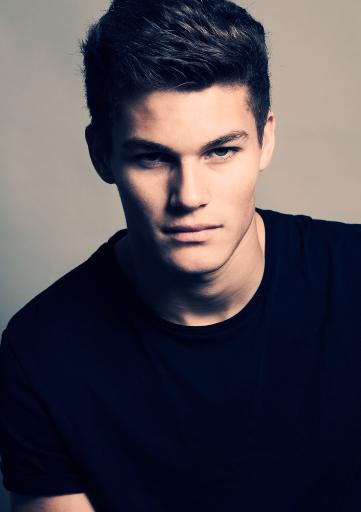left_eye: (202, 145, 247, 163)
left_lip_corner: (213, 221, 229, 235)
right_eye: (132, 152, 173, 171)
right_lip_corner: (158, 224, 174, 239)
